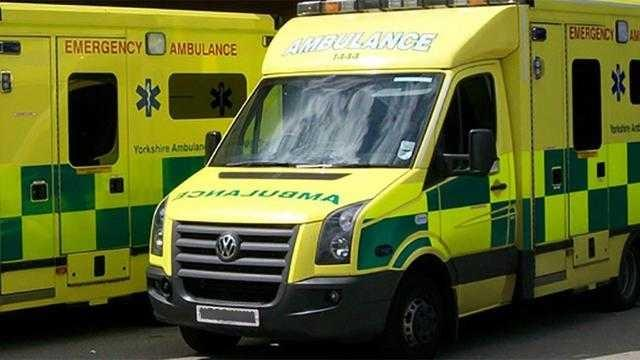car: (145, 0, 639, 357), (0, 0, 278, 316)
